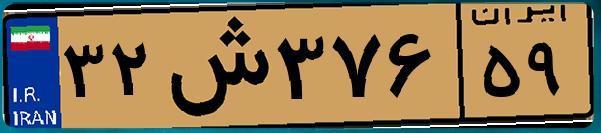2: (110, 28, 158, 98)
3: (270, 28, 330, 110), (57, 26, 110, 100)
5: (475, 38, 525, 113)
6: (385, 28, 445, 110)
7: (330, 28, 385, 110)
9: (525, 38, 570, 115)
ش: (158, 12, 270, 120)
